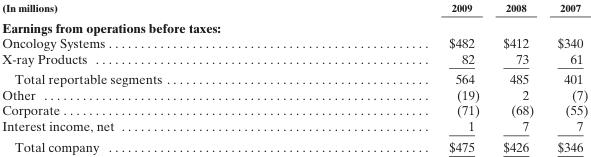table: (1, 1, 587, 153)
table column: (1, 1, 304, 153), (304, 1, 490, 153), (490, 1, 544, 153), (544, 1, 587, 153)
table column header: (1, 1, 587, 16)
table projected row header: (1, 16, 587, 35)
table row: (1, 16, 587, 35), (1, 50, 587, 68), (1, 68, 587, 86), (1, 117, 587, 135), (1, 135, 587, 153), (1, 86, 587, 102), (1, 1, 587, 16), (1, 35, 587, 50), (1, 102, 587, 117)
